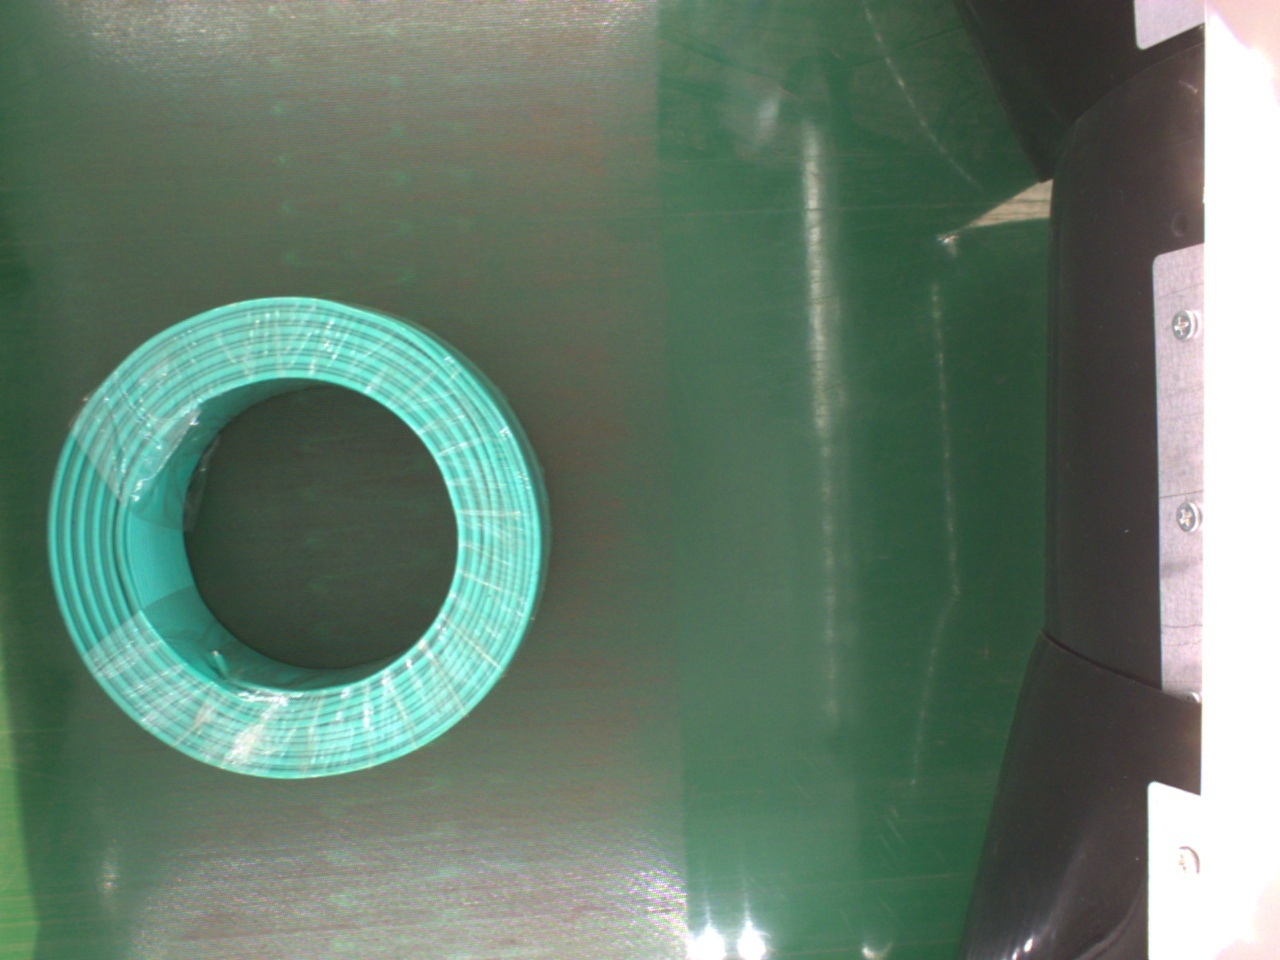green: (48, 295, 543, 779)
